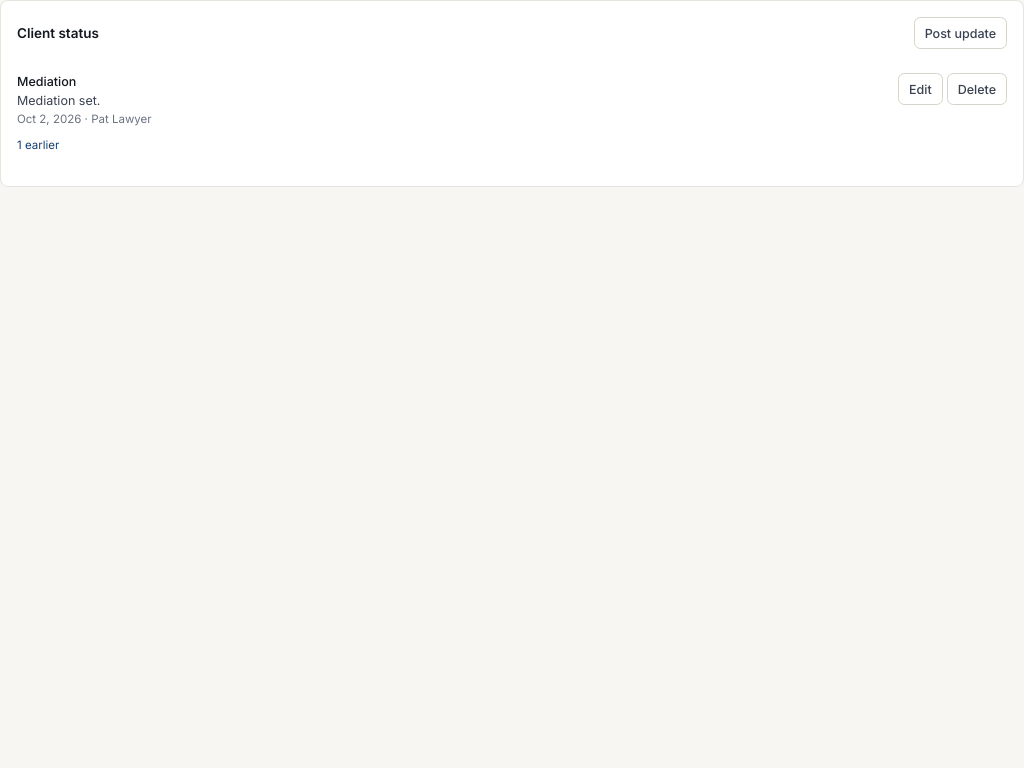
Test case: ClientStatusCard › a warning result is shown as an inline notice
Click the button "Post update".
click(960, 33)  # box [914,17,1007,49]
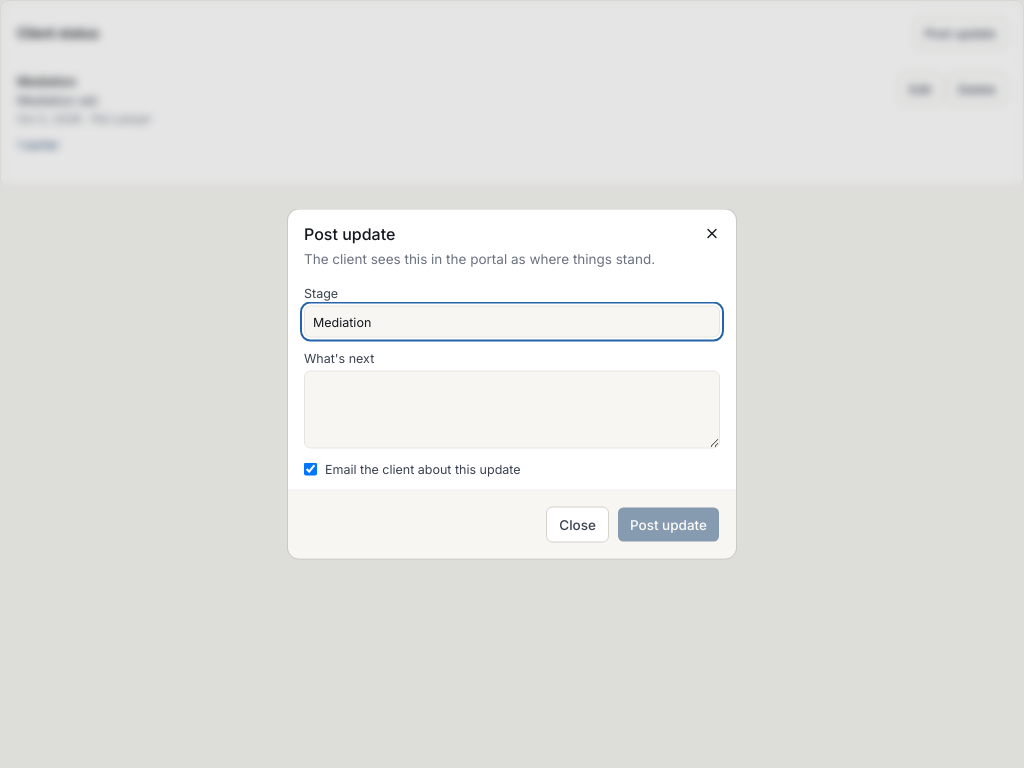
Type "Hi" into the text box labelled "What's next".
click(512, 410); type("Hi")  # box [304,370,720,448]
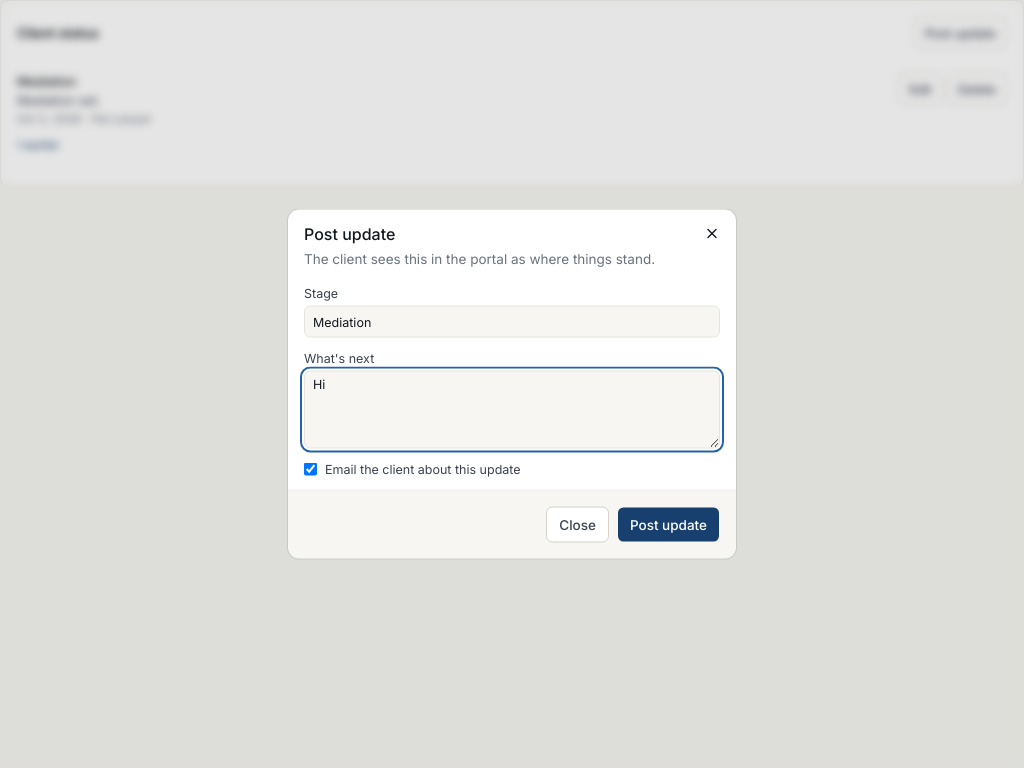
Click the button "Post update".
click(668, 524)  # box [617,506,720,542]
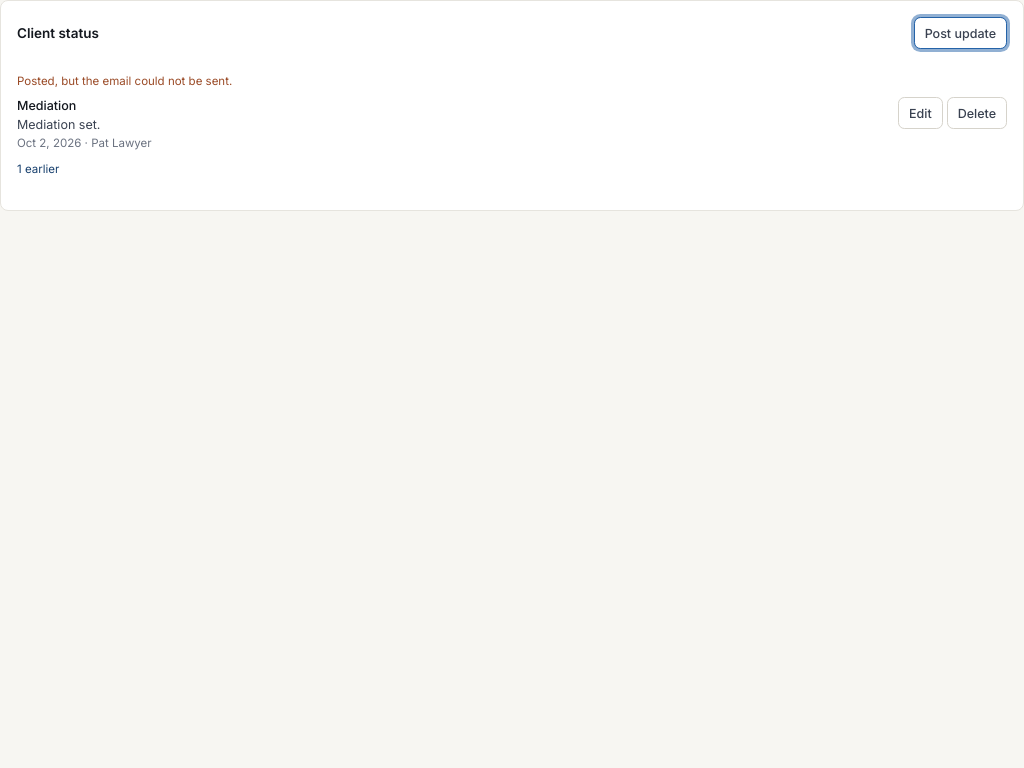
Expected: the text "Posted, but the email could not be sent." is shown, [17,74,232,88]
